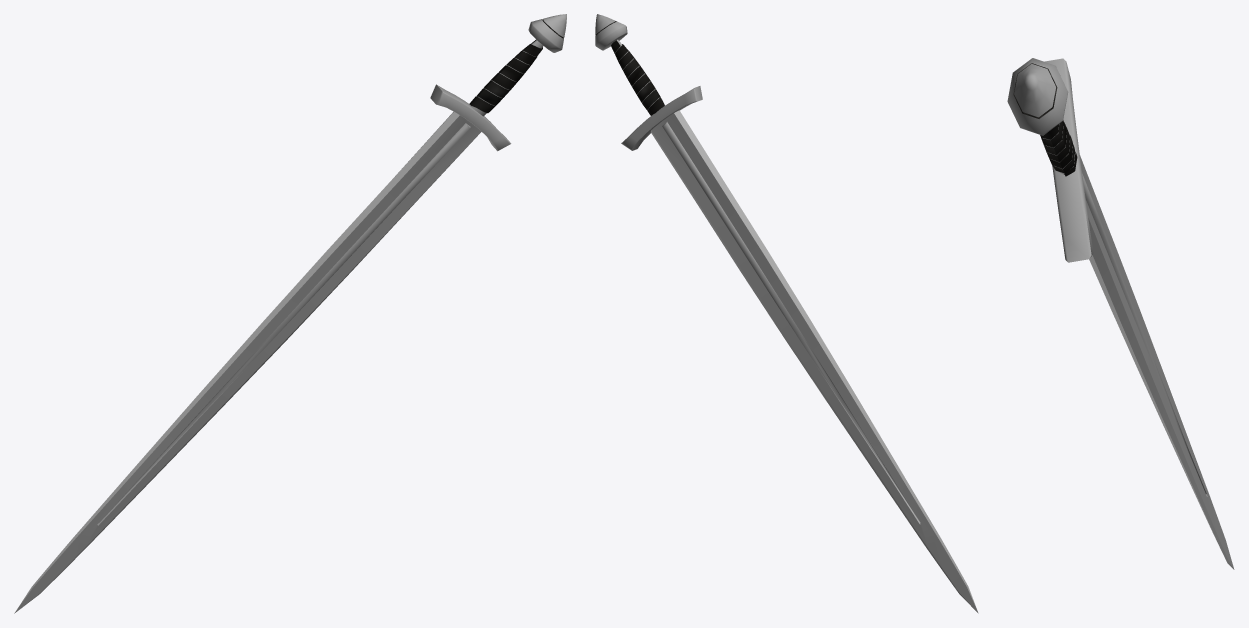
Rendered from Sword.fbx.
3 renders of one model, left to right at view 1: azimuth 30°, elevation 25°; view 2: azimuth 150°, elevation 25°; view 3: azimuth 270°, elevation 25°, orthographic. The views are drawn at different scales.
Parts seen in each view (by area): view 1: ShortSword; view 2: ShortSword; view 3: ShortSword.
Part boxes in pixels (x1,y1,x2,y2): ShortSword: (14,14,566,613); ShortSword: (595,14,978,613); ShortSword: (1007,58,1234,569).
Bounding box in the file's own units: 207 × 209 × 46.97.
3 materials, 1 textured.
